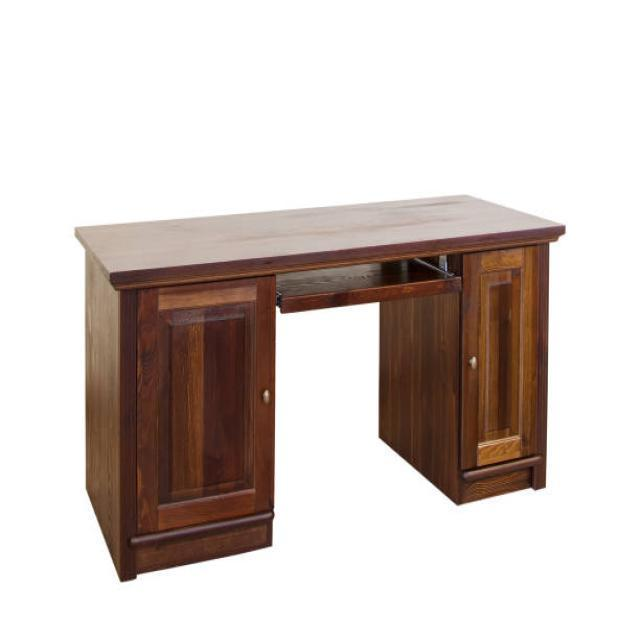table: (73, 192, 566, 582)
